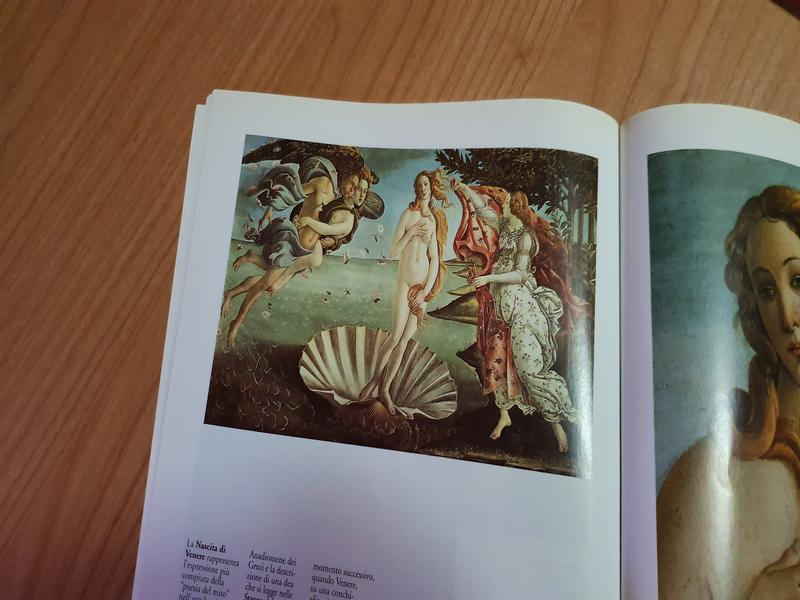Venere: (205, 135, 599, 478)
